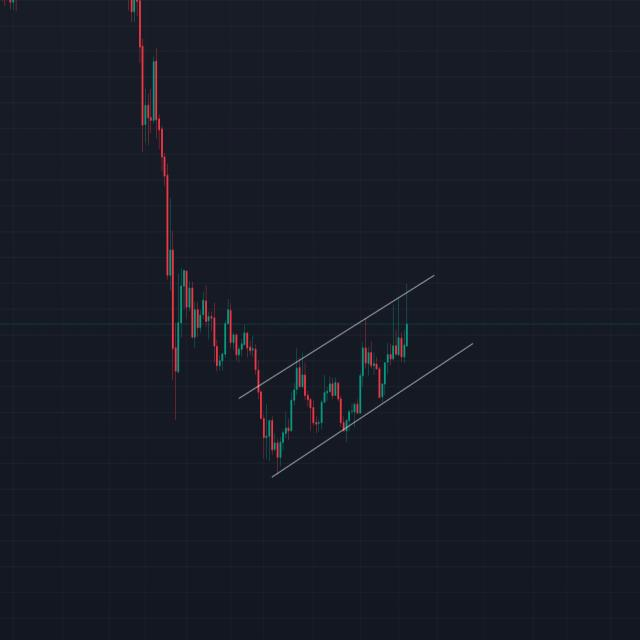Channel-up: (240, 290, 436, 482)
